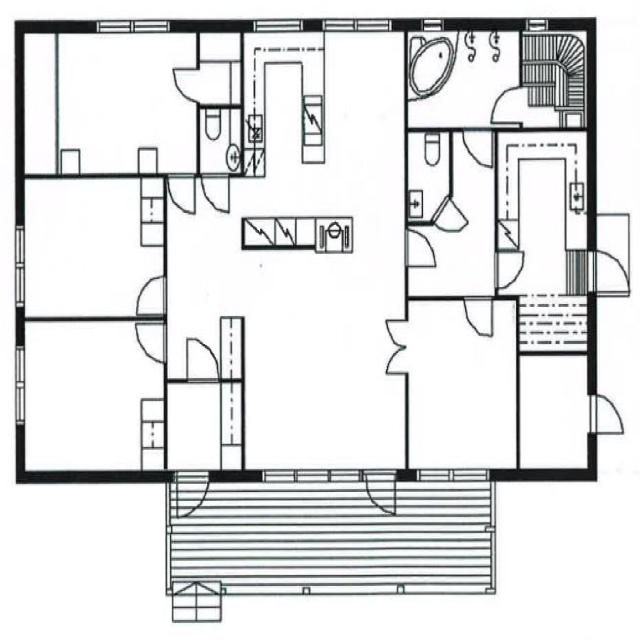door: (586, 242, 633, 297), (359, 465, 399, 521), (585, 388, 627, 439), (182, 332, 222, 382), (187, 576, 226, 626), (173, 468, 211, 518), (460, 292, 496, 340), (403, 224, 441, 269), (382, 310, 407, 378), (459, 126, 496, 170), (490, 247, 526, 292), (133, 320, 169, 364), (488, 82, 524, 125), (198, 172, 232, 216), (165, 171, 197, 216), (168, 62, 202, 104), (134, 273, 168, 312)
window: (252, 459, 361, 492), (410, 455, 496, 493), (317, 11, 398, 37), (93, 13, 172, 38), (10, 218, 30, 315), (382, 310, 406, 380), (11, 344, 29, 432), (249, 12, 312, 34), (419, 16, 446, 34), (524, 16, 551, 33)
zone: (243, 32, 381, 252), (19, 316, 166, 478), (498, 123, 594, 356), (51, 26, 198, 176), (19, 172, 167, 320), (405, 296, 516, 475), (406, 25, 518, 128), (518, 353, 592, 474), (514, 22, 585, 126), (166, 380, 244, 474), (18, 30, 58, 168), (406, 132, 450, 220), (197, 28, 241, 107), (198, 107, 242, 175)
